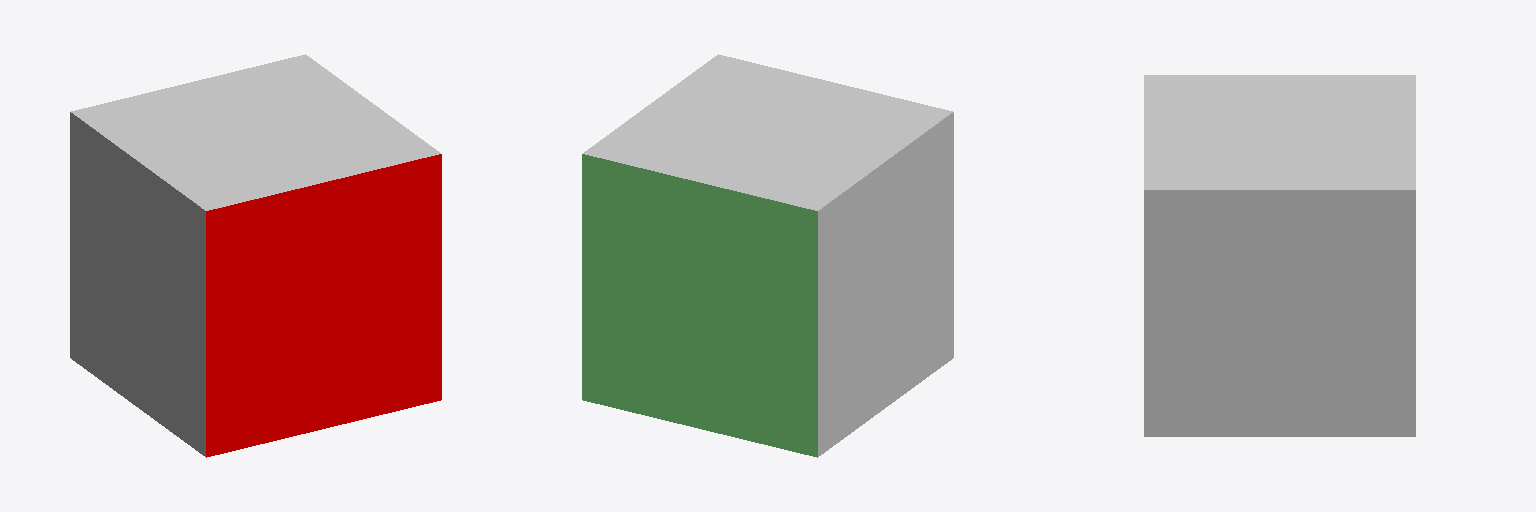
The model's file is cornell.obj.
3 renders of one model, left to right at view 1: azimuth 30°, elevation 25°; view 2: azimuth 150°, elevation 25°; view 3: azimuth 270°, elevation 25°, orthographic.
Visible parts, largest first — view 1: Cube1, Cube2; view 2: Cube1, Cube; view 3: Cube1.
Boxes of the visible parts, box(x1,y1,x2,y2) form: Cube1: box(70, 54, 440, 456); Cube2: box(206, 154, 441, 457); Cube1: box(583, 54, 953, 456); Cube: box(582, 154, 817, 457); Cube1: box(1144, 75, 1415, 436).
Size of the model in its own units: 10 by 10 by 10.